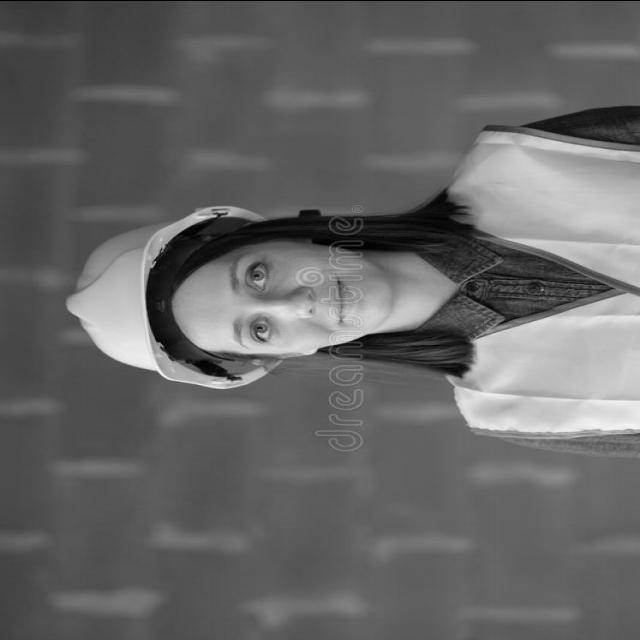safety_helmet: (68, 203, 281, 390)
